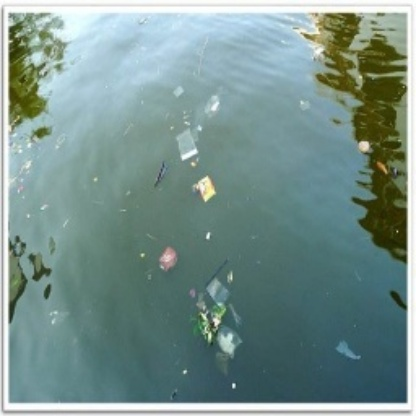plastic-bag: (175, 130, 204, 161)
